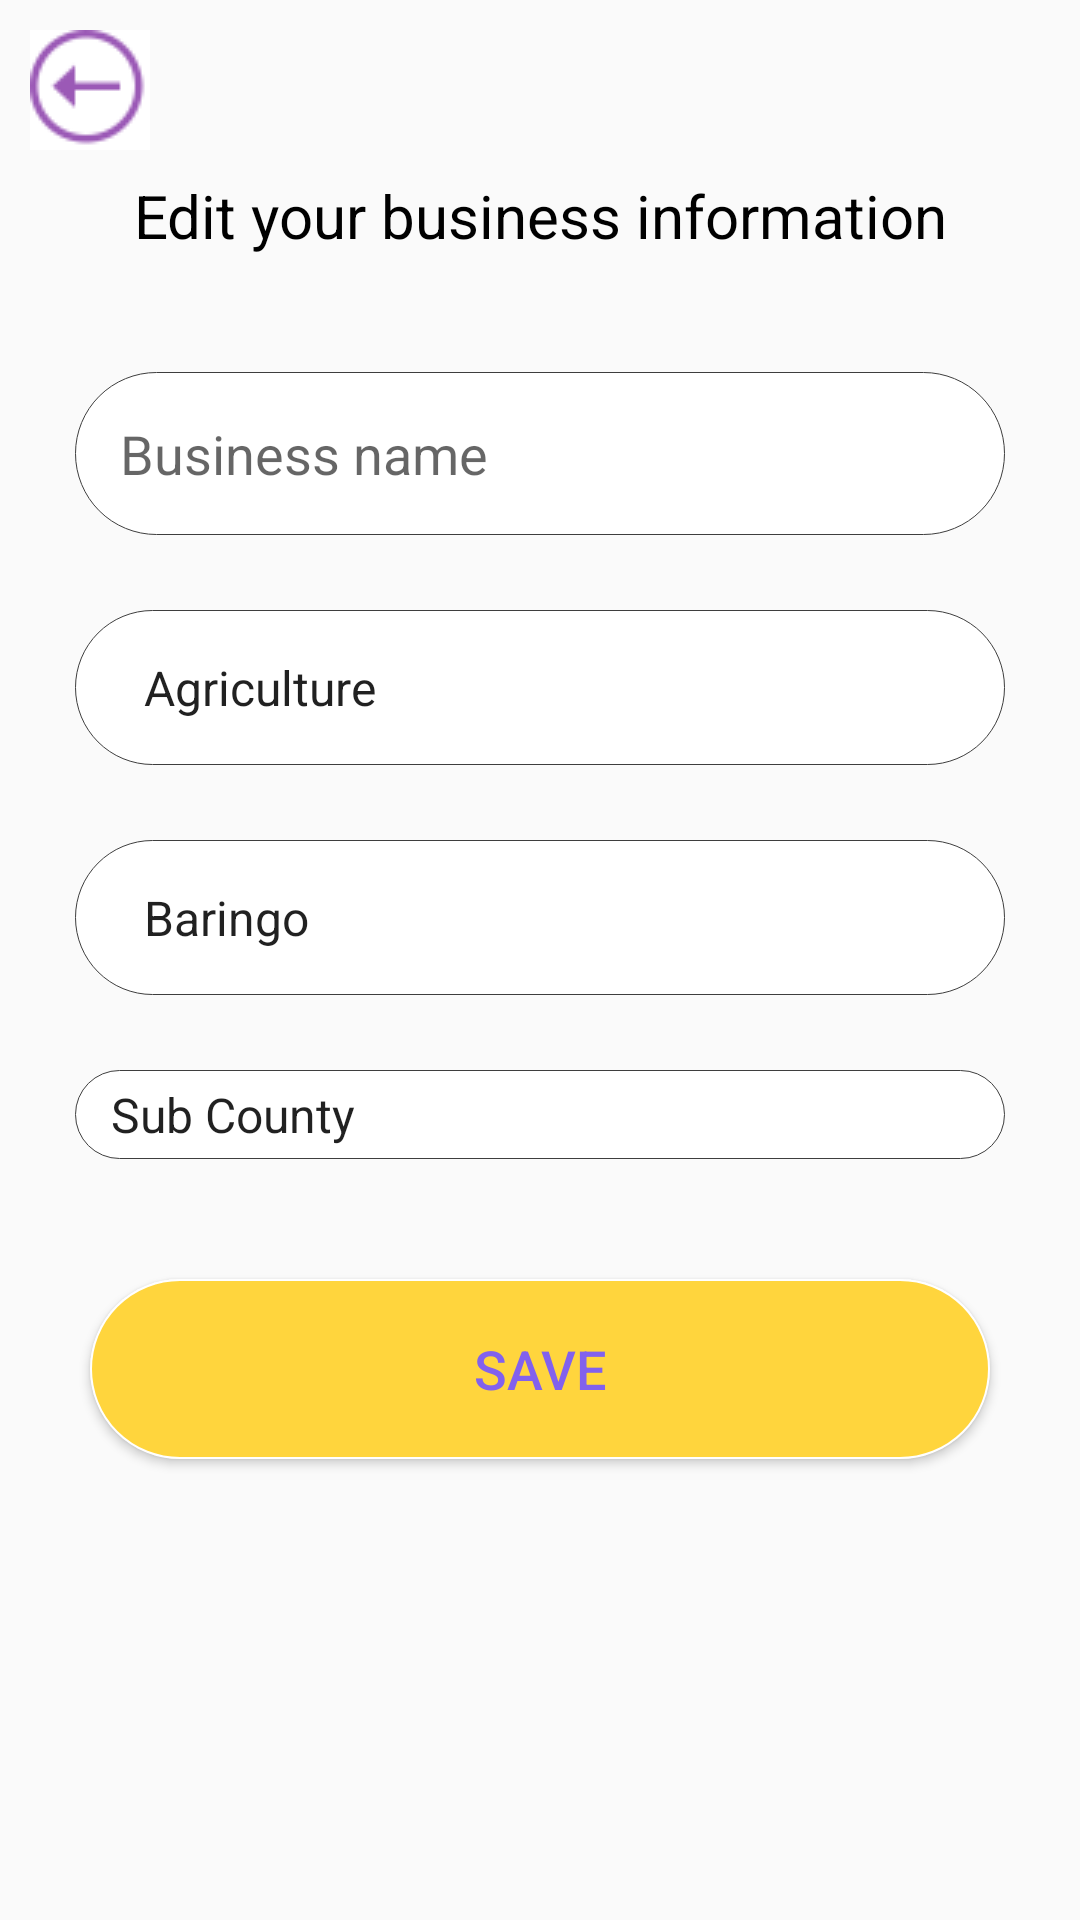

Where icons sit on this 1080x1920 app screen, as box=[x1, y1, x2, y2]:
Back button: box=[30, 30, 144, 144]
